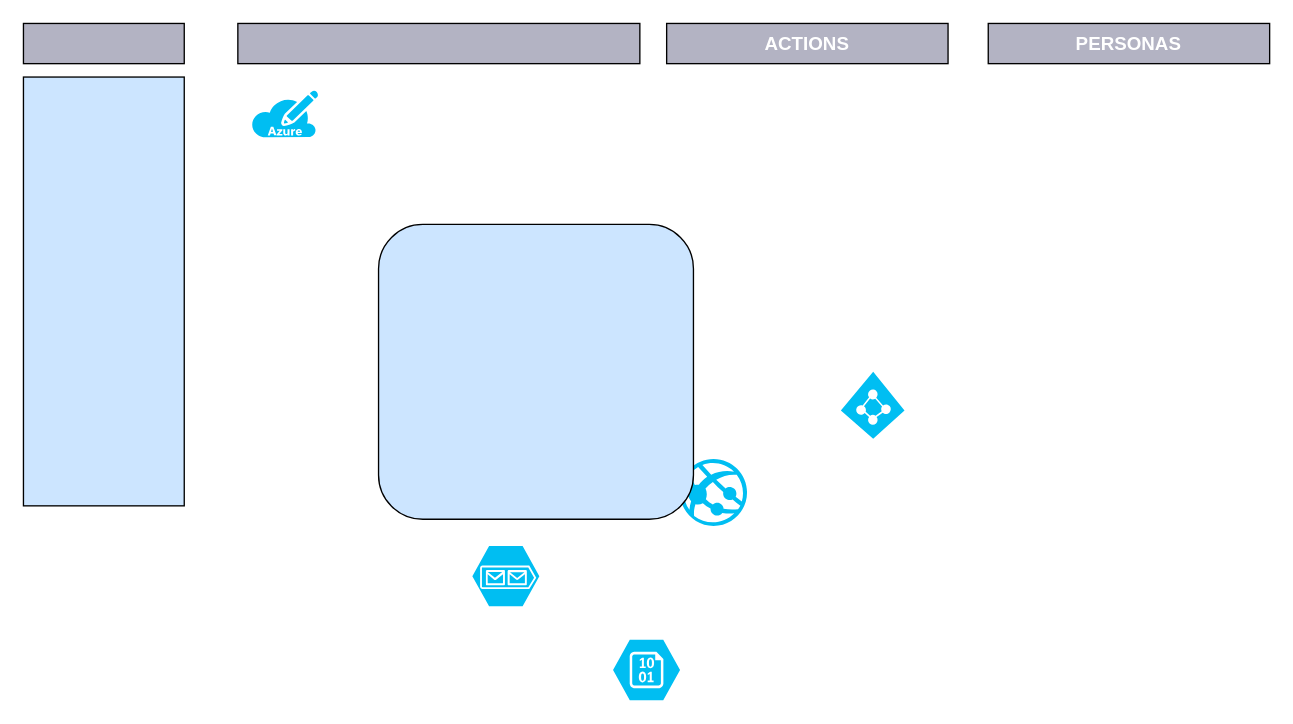
Some shapes in this 1293 by 724 pixel diagram are drawn without their labels. The centre of each missing label's shape, as x and y in pixels:
"INSIGHTS" goes at point (438, 43).
"THINGS" goes at point (103, 43).
